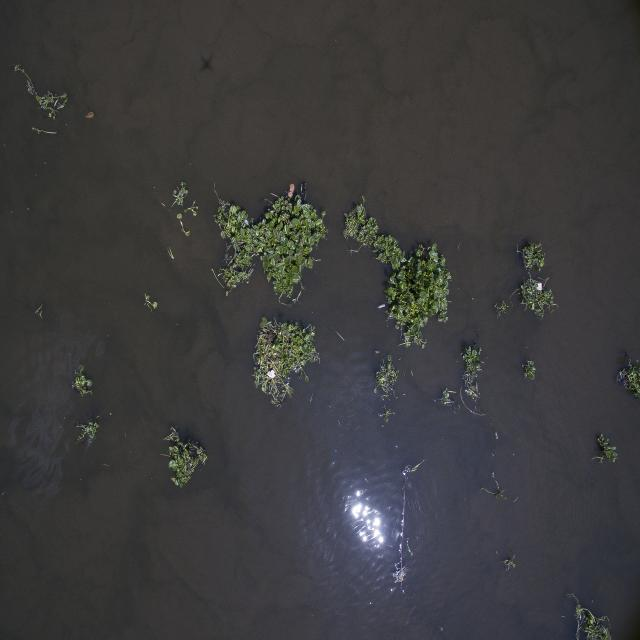Plastic: (300, 180, 308, 202), (267, 368, 275, 380), (535, 281, 543, 291), (376, 304, 386, 308)
